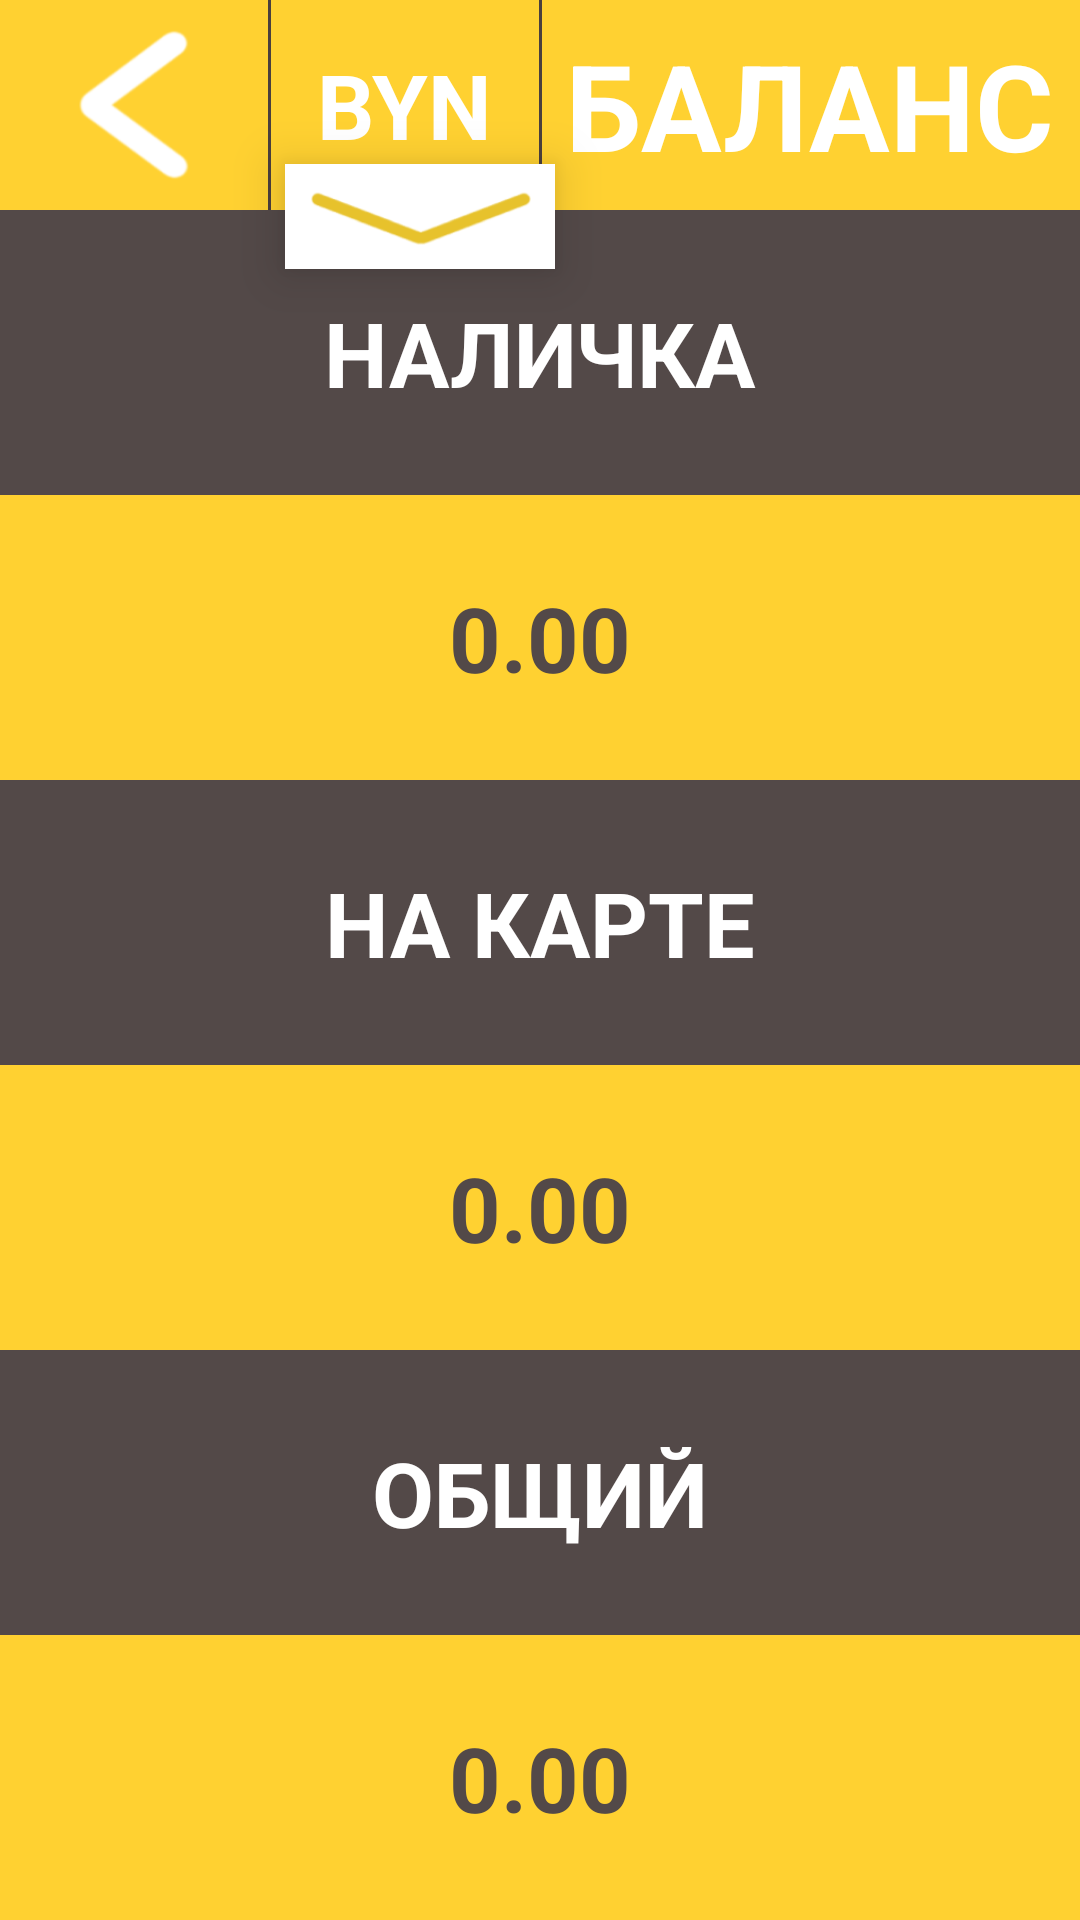

Icons on this 1080 × 1920 Android screen, each with its box as region(x1, y1, x2, y2):
back: region(79, 31, 188, 179)
